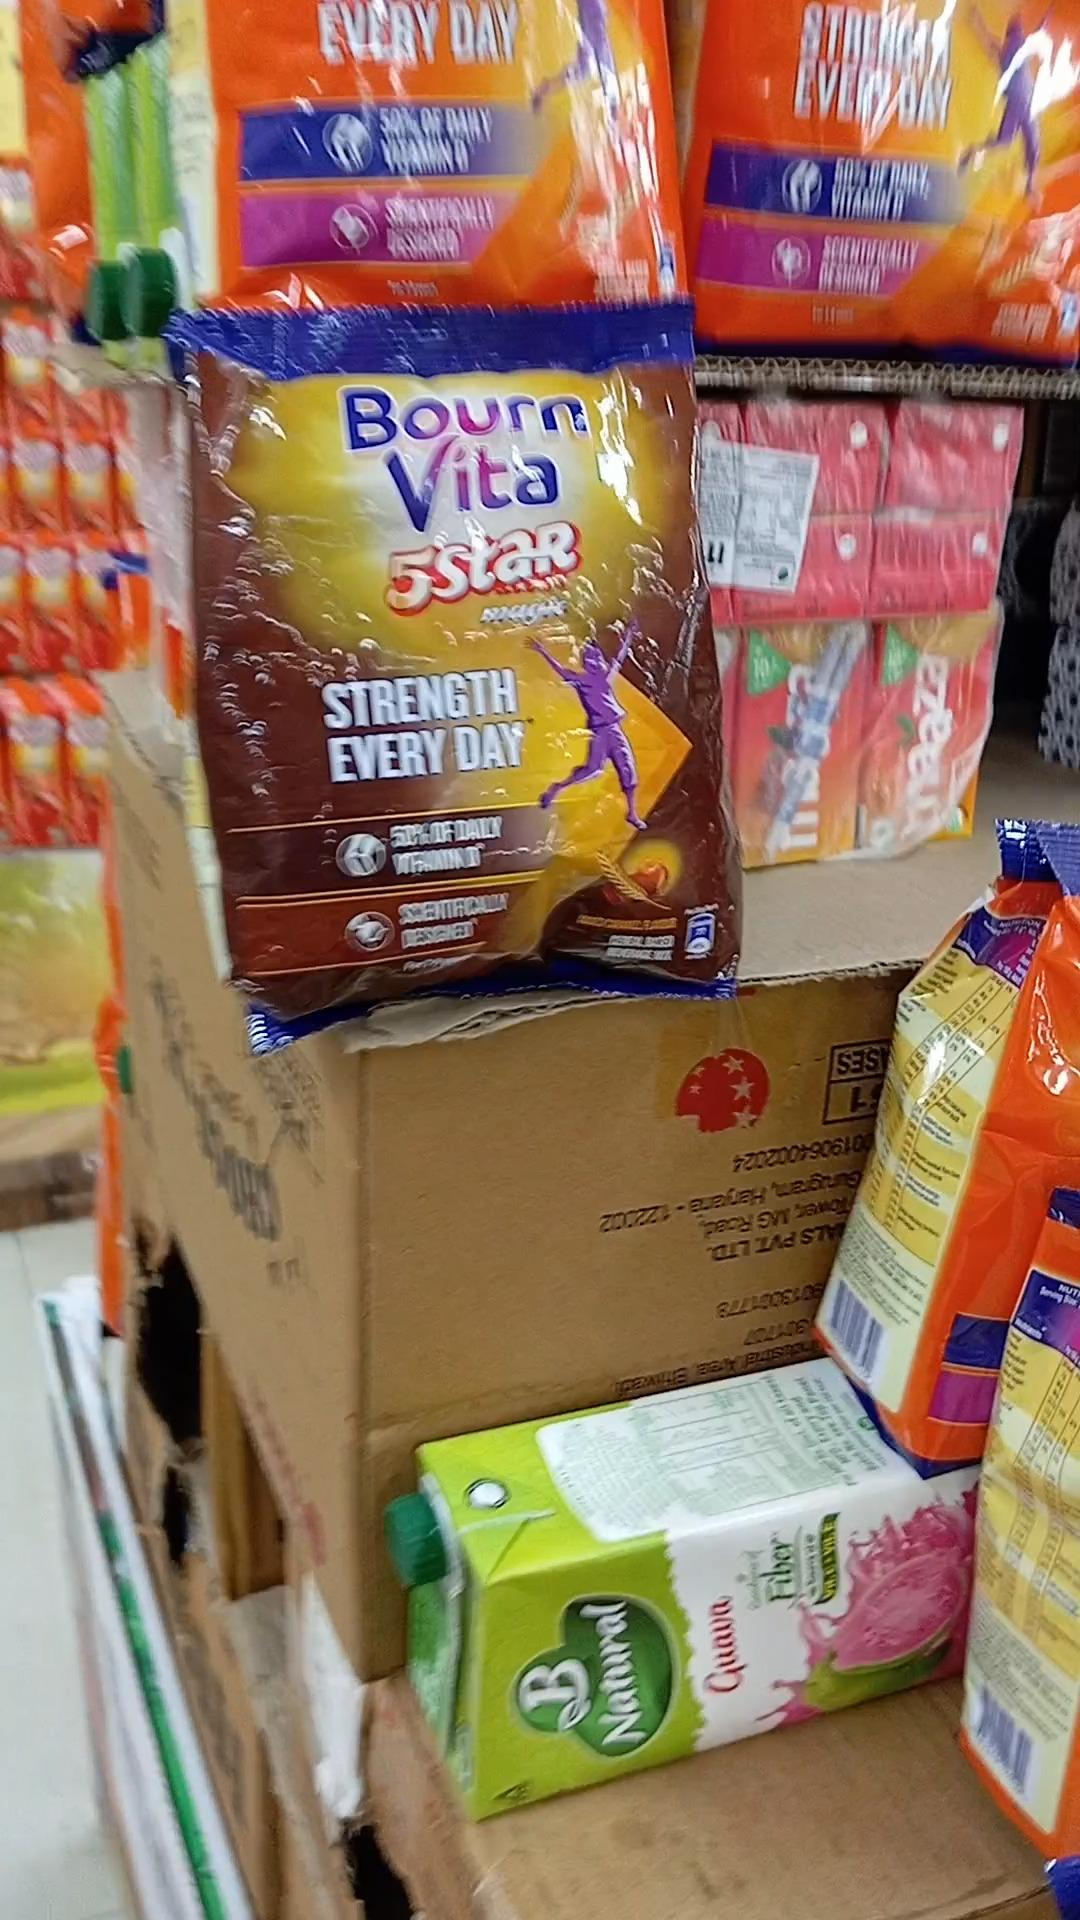BOURN_VITA_FIVE_STAR_MAGIC_500_G_POUCH: (210, 332, 728, 992)
